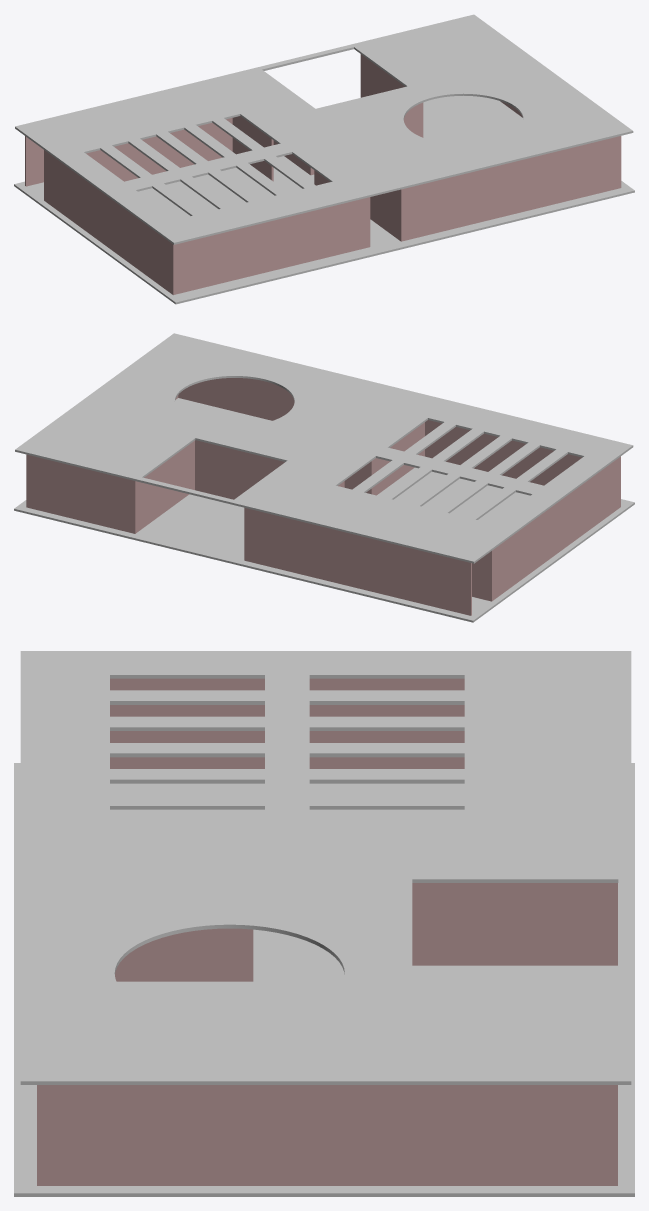
The model's file is museum.fbx.
The picture shows the model from 3 angles, top to bottom: view 1: azimuth 30°, elevation 25°; view 2: azimuth 150°, elevation 25°; view 3: azimuth 270°, elevation 25°; orthographic projection. The views are drawn at different scales.
Visible parts, largest first — view 1: roof, Walls, floor; view 2: roof, Walls, floor; view 3: roof, Walls, floor.
Boxes of the visible parts, x1,y1,x2,y2 form: roof: (15,14,633,244); Walls: (25,54,621,294); floor: (14,95,634,304); roof: (15,333,633,563); Walls: (26,378,620,615); floor: (14,398,634,622); roof: (20,651,631,1084); Walls: (37,678,617,1185); floor: (14,763,634,1196).
Bounding box in the file's own units: 1200 × 732 × 151.
